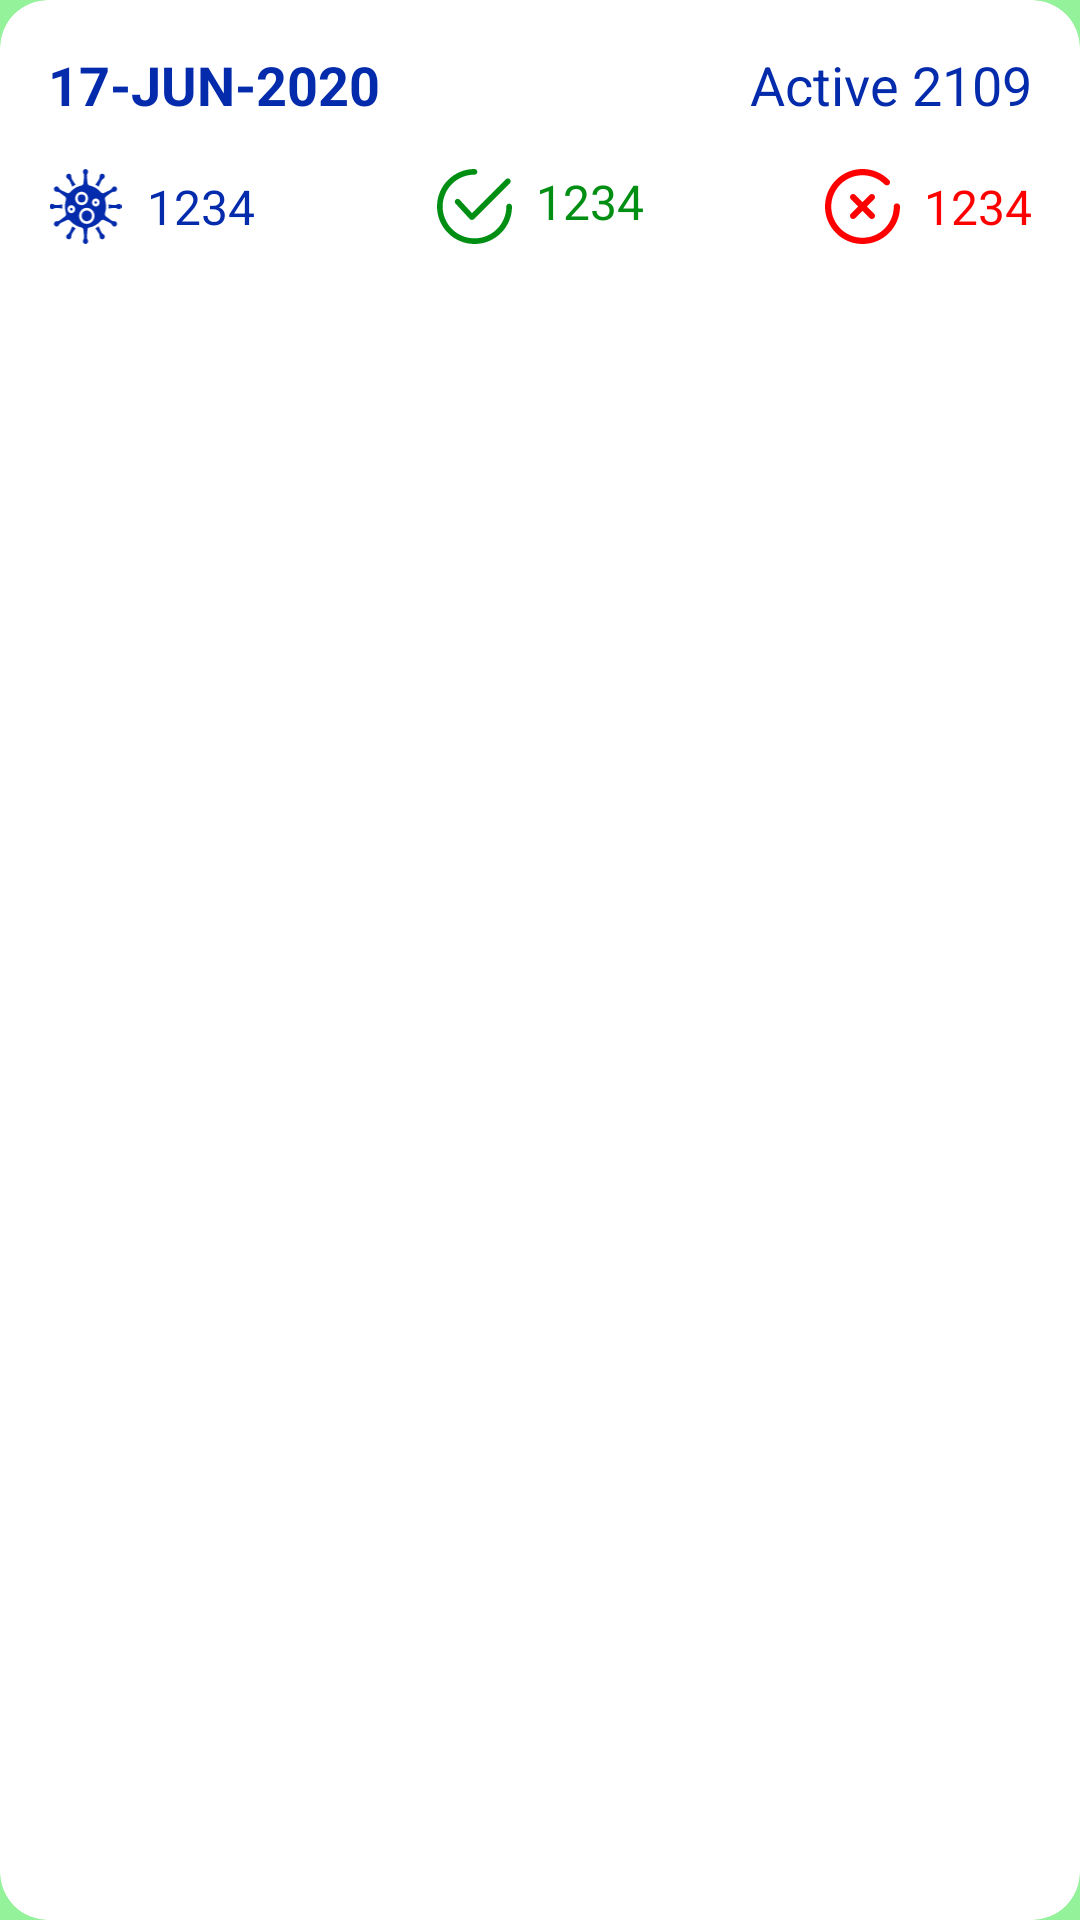

Screen size 1080×1920. Icon name, then its center in pixels as (x=x, y=y):
dead: (x=862, y=206)
recovered: (x=474, y=206)
